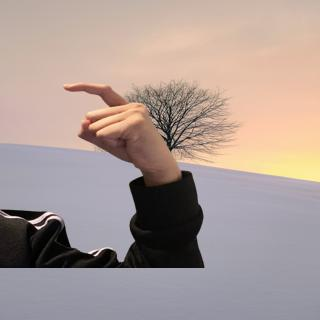WHY: (59, 79, 178, 176)
